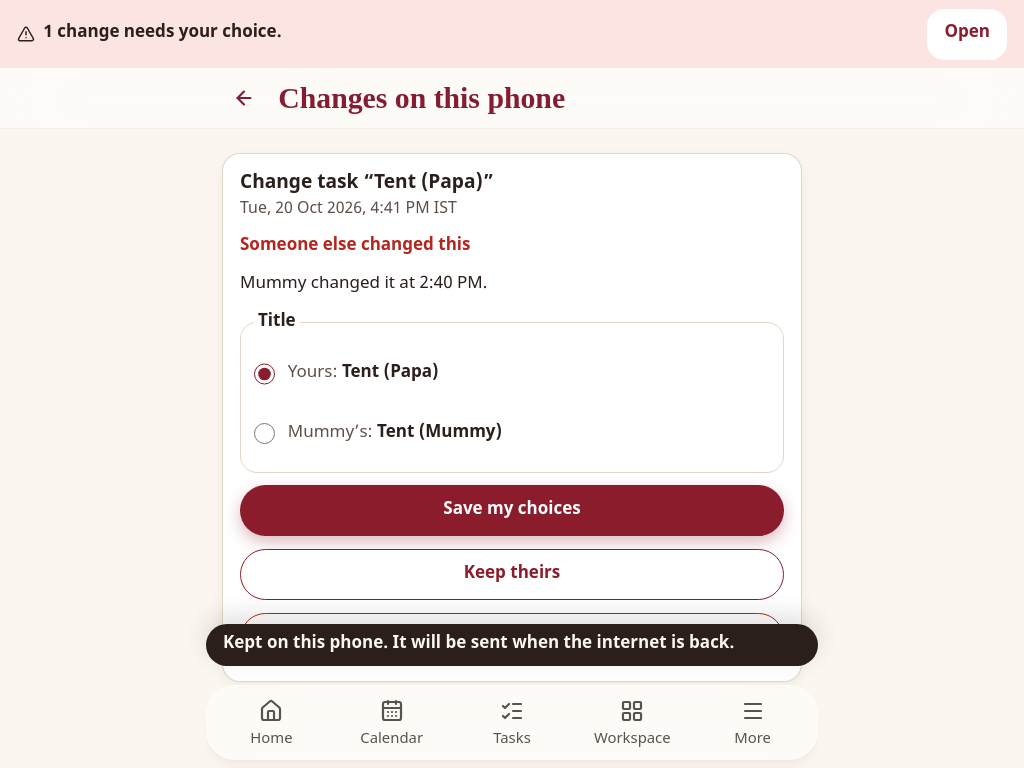
Test: Needs your choice › a clash found when sending → the bar → Yours / Theirs → Save my choices sends my pick
Expected: the text "Someone else changed this" is shown, [240, 235, 470, 257]
Expected: the text "Mummy changed it at 2:40 PM." is shown, [240, 273, 487, 295]
Click the button "Save my choices".
click(512, 511)  # box [240, 485, 784, 536]
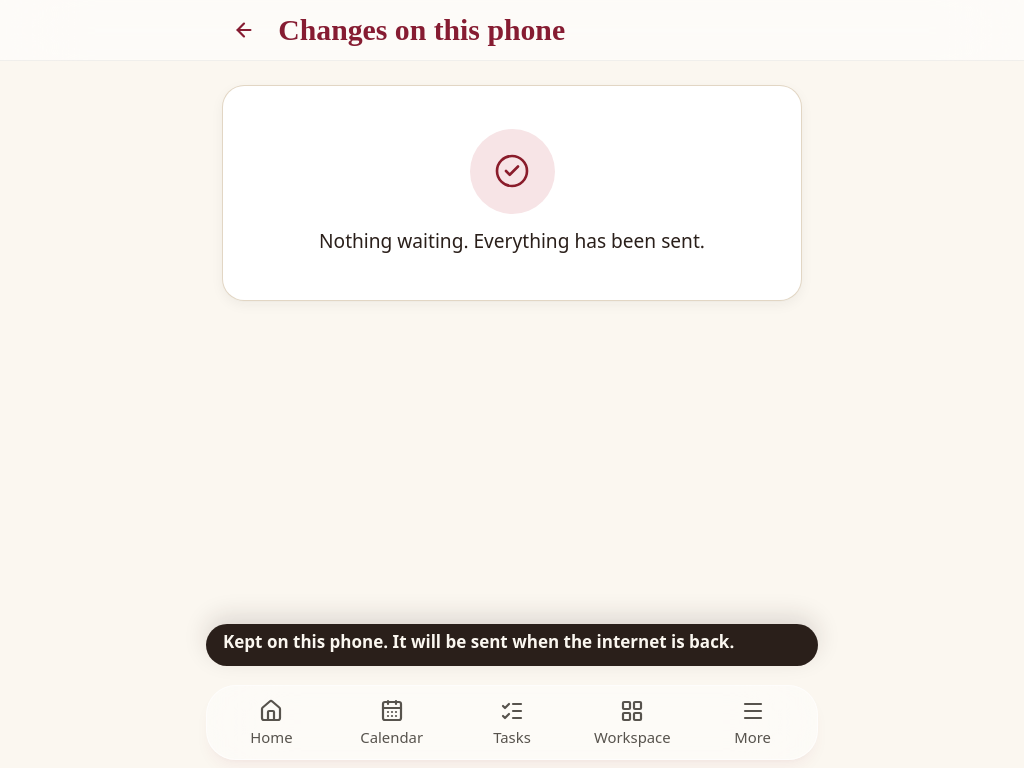
Result: the text "Nothing waiting. Everything has been sent." is shown at [319, 230, 705, 257]
